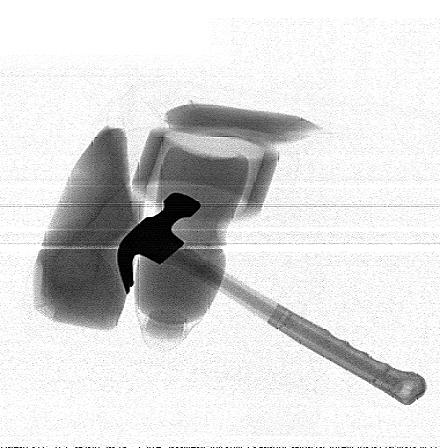Hammer: (116, 191, 427, 406)
